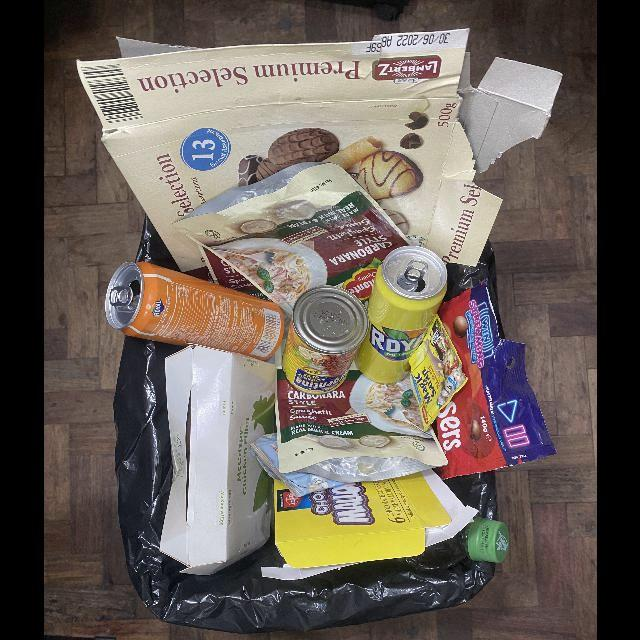aluminum: (104, 262, 284, 362), (355, 247, 448, 383), (280, 288, 369, 398)
cardboard: (74, 27, 561, 284), (160, 345, 276, 576), (262, 468, 478, 581)
food_wrapper: (172, 162, 414, 314), (272, 316, 446, 484), (429, 283, 559, 482), (407, 315, 470, 432)
